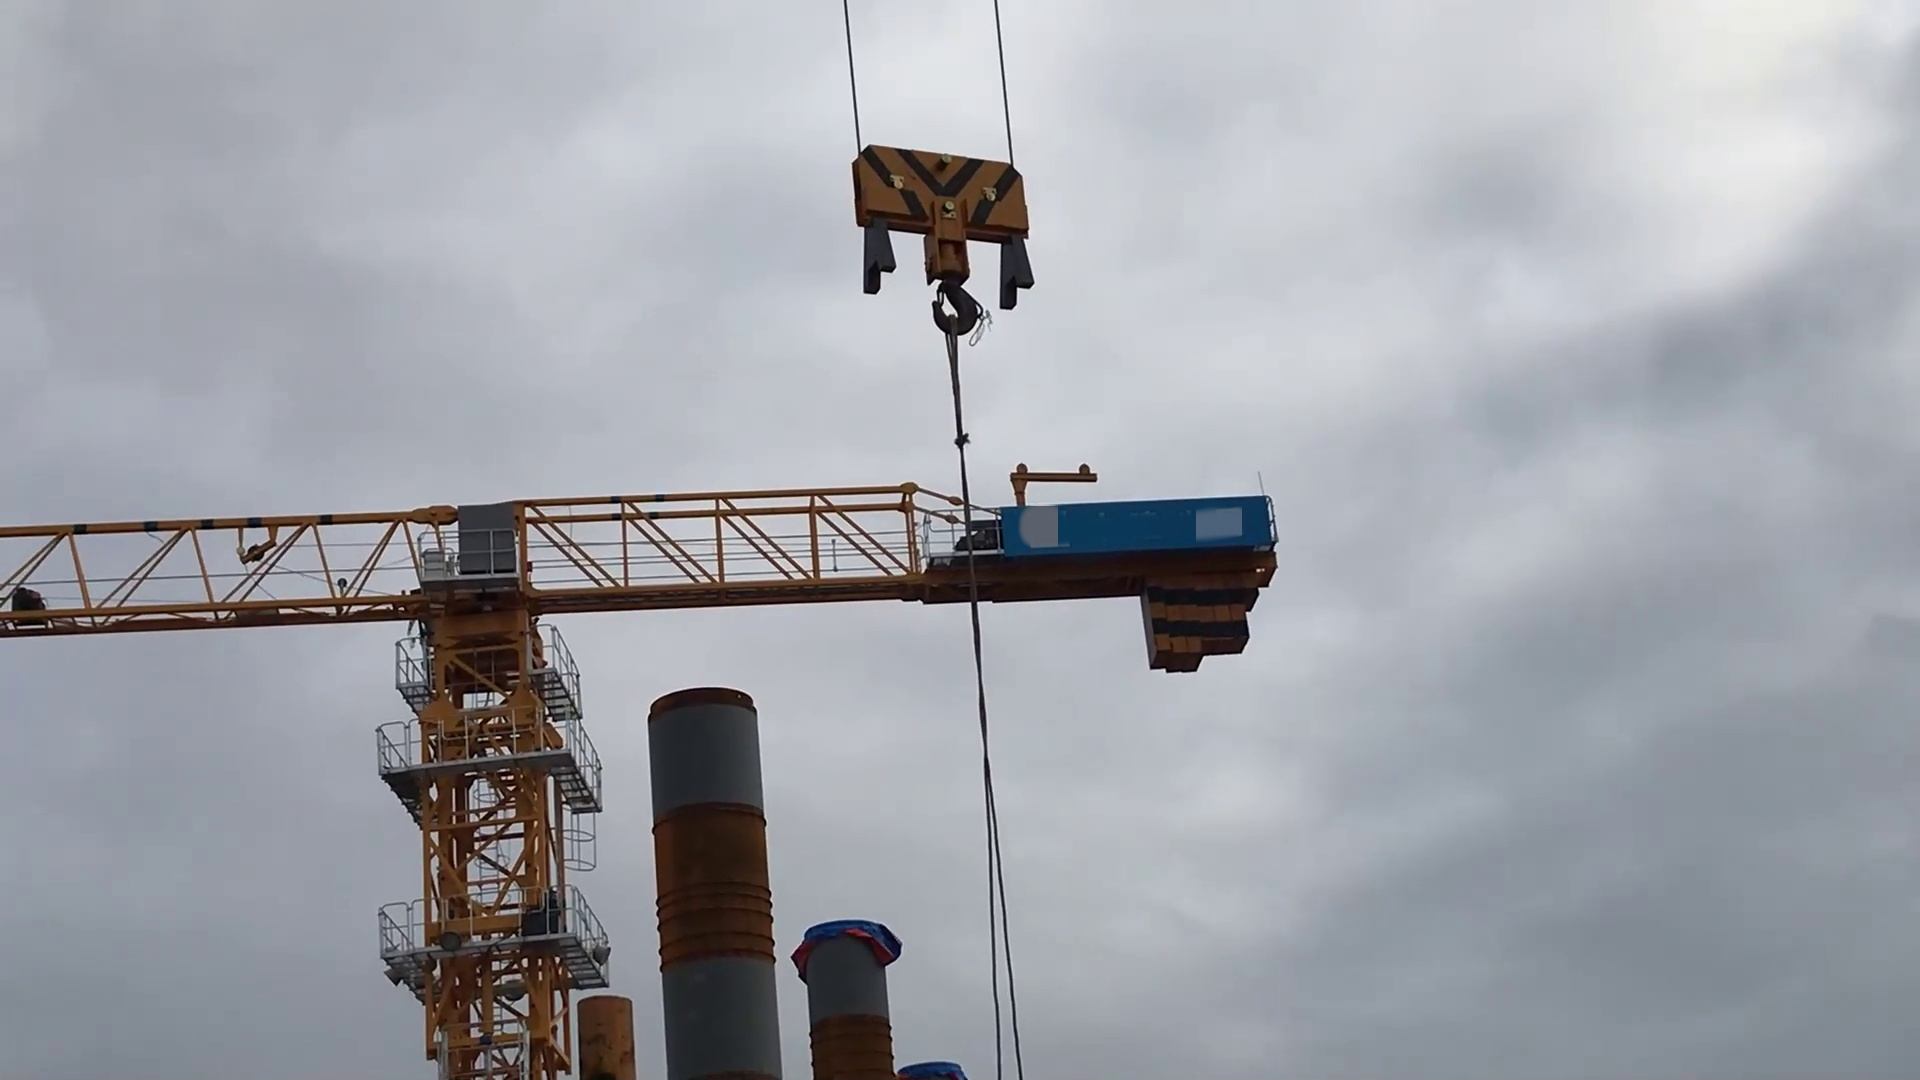hook: (840, 135, 1048, 349)
